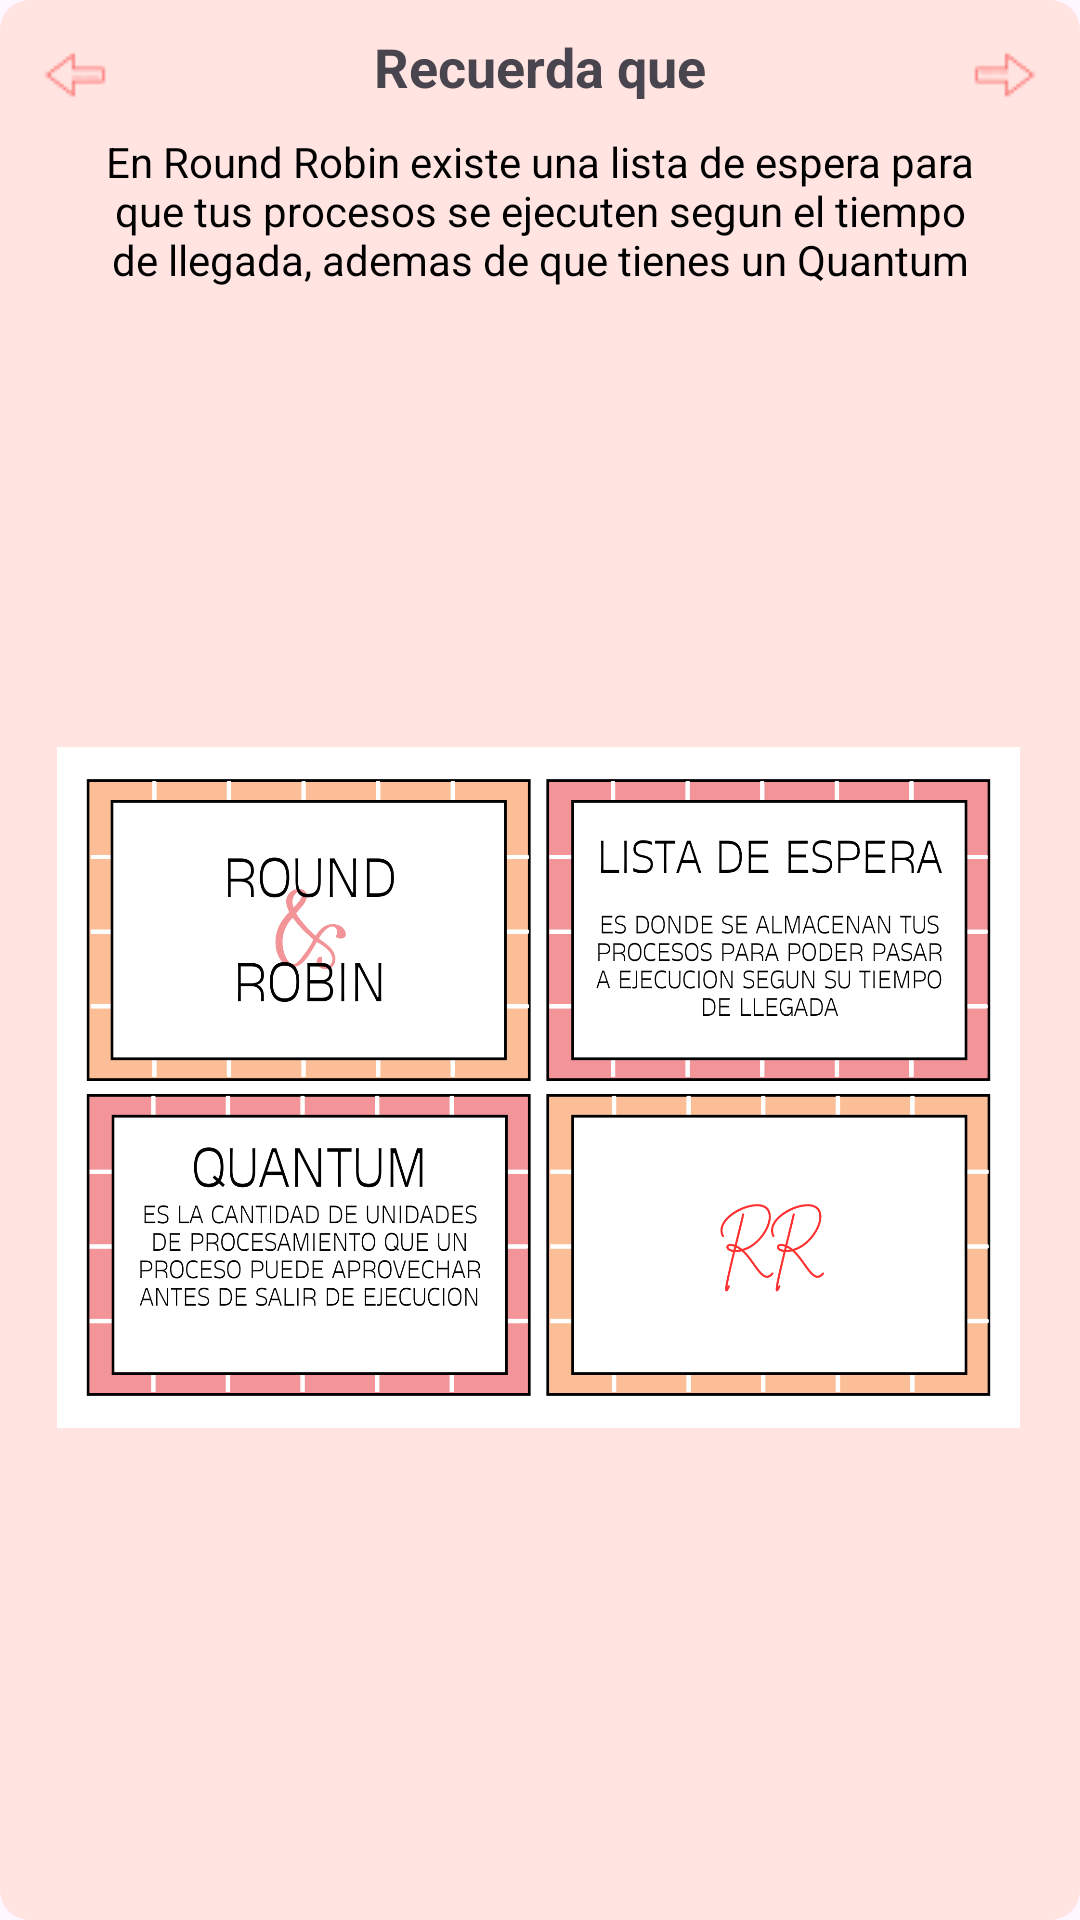

Where to tap for icons on this 1080px×1920px app screen, as point (x, y):
flecha adelante: point (1004, 75)
flecha atras: point (75, 75)
